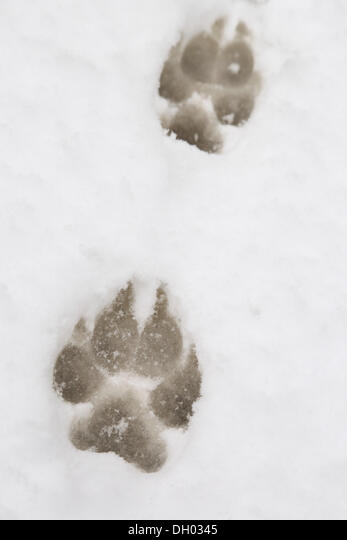chien: (50, 275, 203, 477), (149, 18, 272, 156)
